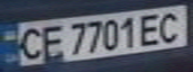0: (103, 16, 124, 51)
1: (118, 14, 139, 48)
7: (63, 20, 87, 56), (84, 18, 106, 54)
C: (154, 8, 190, 44), (12, 25, 48, 61)
E: (36, 21, 66, 60), (136, 11, 169, 46)
